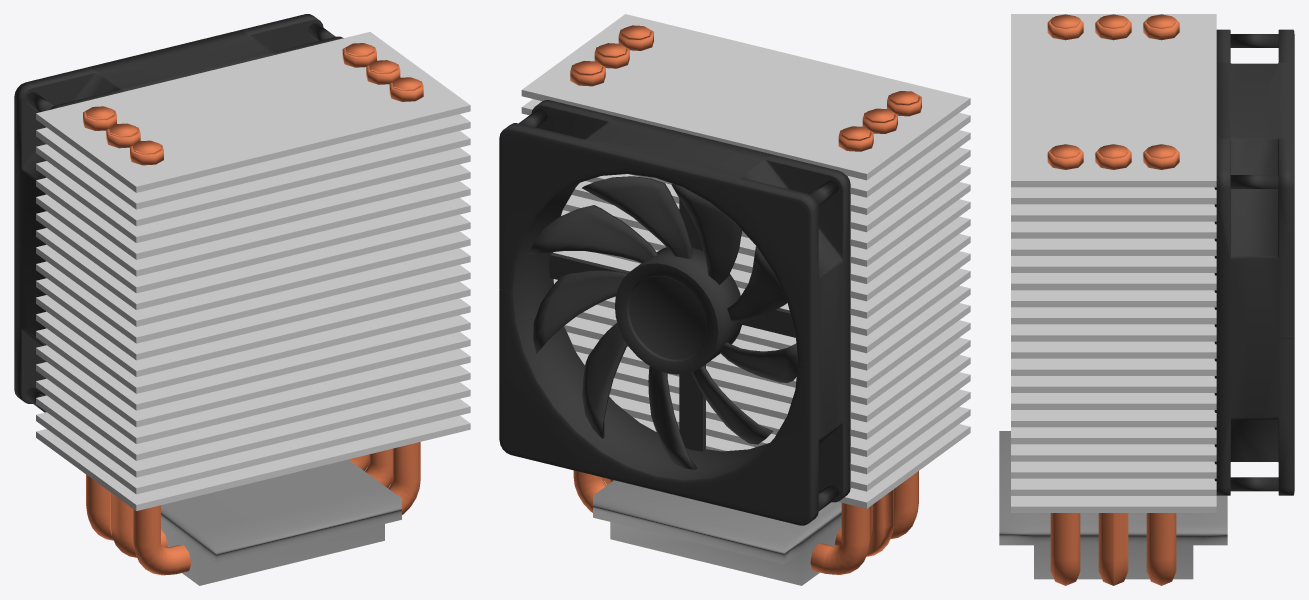
The model's file is CpuCooler.fbx.
3 renders of one model, left to right at view 1: azimuth 30°, elevation 25°; view 2: azimuth 150°, elevation 25°; view 3: azimuth 270°, elevation 25°, orthographic. The views are drawn at different scales.
Visible parts, largest first — view 1: Plane, pCube1, Cube.003, Cylinder.002; view 2: Plane, Cube.003, Cylinder.001, pCube1, Cylinder.002; view 3: Plane, Cube.003, Cylinder.002, pCube1.
Boxes of the visible parts, <box> form: Plane: <box>36,32,470,510</box>; pCube1: <box>161,459,401,585</box>; Cube.003: <box>14,14,343,412</box>; Cylinder.002: <box>83,43,423,575</box>; Plane: <box>521,14,970,508</box>; Cube.003: <box>499,100,850,525</box>; Cylinder.001: <box>528,176,797,469</box>; pCube1: <box>593,480,841,585</box>; Cylinder.002: <box>570,25,921,574</box>; Plane: <box>1011,14,1216,512</box>; Cube.003: <box>1214,29,1294,495</box>; Cylinder.002: <box>1047,14,1179,585</box>; pCube1: <box>999,431,1227,579</box>.
Size of the model in its own units: 244 by 305 by 182.
